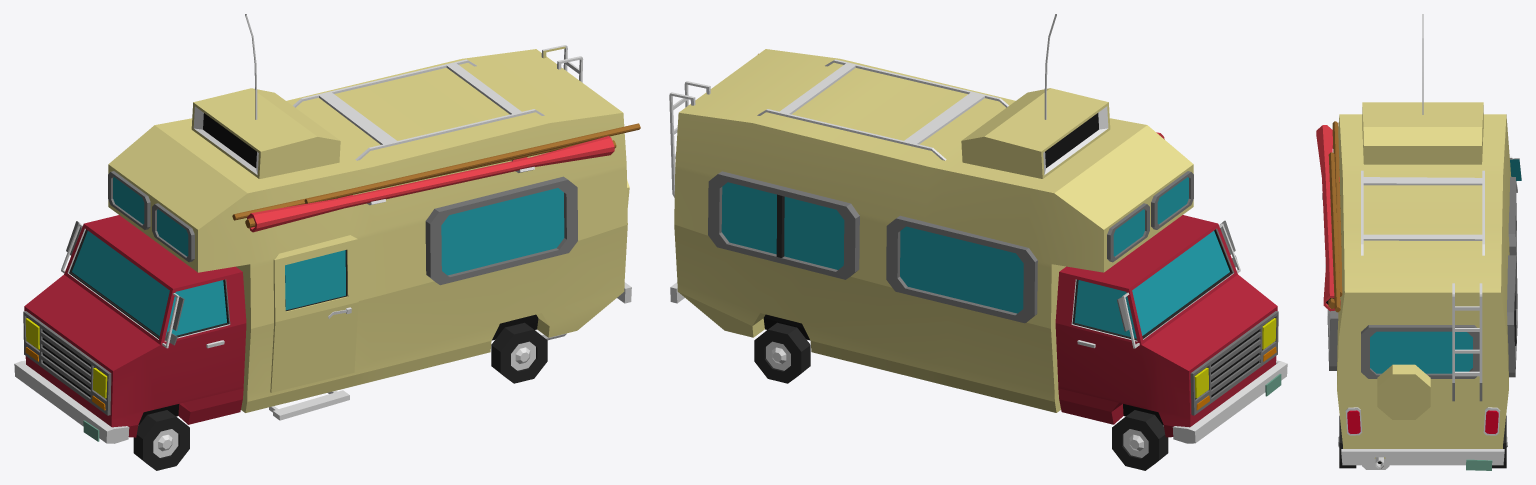
The model's file is Old-Caravan.fbx.
The picture shows the model from 3 angles, left to right: view 1: azimuth 30°, elevation 25°; view 2: azimuth 150°, elevation 25°; view 3: azimuth 270°, elevation 25°; orthographic projection. The views are drawn at different scales.
Parts seen in each view (by area): view 1: caravan, Cabin_Door, L-C-Windo, Fornt-Face, R-tire, F-tire, Front-Bumper, F-L-C-Windo, F-R-C-Windo; view 2: caravan, R-R-C-windo, F-R-C-Windo.001, Fornt-Face, R-tire.001, F-tire.001, Front-Bumper, F-L-C-Windo, F-R-C-Windo; view 3: caravan, F-L-C-Windo.001, R-tire.002, Back-Bumper, R-R-C-windo, back-Liight, F-R-C-Windo.001, L-C-Windo, Plate_R, Cube.002, Cube.003.
Boxes of the visible parts, x1,y1,x2,y2 form: caravan: (24,14,640,437); Cabin_Door: (270,235,358,392); L-C-Windo: (425,176,577,285); Fornt-Face: (23,311,111,415); R-tire: (491,322,547,383); F-tire: (133,410,189,470); Front-Bumper: (14,360,129,443); F-L-C-Windo: (152,203,194,262); F-R-C-Windo: (108,171,150,229); caravan: (669,14,1277,437); R-R-C-windo: (708,171,859,279); F-R-C-Windo.001: (886,215,1037,323); Fornt-Face: (1190,311,1278,415); R-tire.001: (754,322,810,383); F-tire.001: (1112,410,1168,470); Front-Bumper: (1172,360,1287,443); F-L-C-Windo: (1151,171,1193,229); F-R-C-Windo: (1107,203,1149,262); caravan: (1316,14,1511,458); F-L-C-Windo.001: (1361,325,1479,378); R-tire.002: (1377,364,1430,419); Back-Bumper: (1341,449,1504,465); R-R-C-windo: (1507,255,1517,377); back-Liight: (1345,407,1500,435); F-R-C-Windo.001: (1508,177,1516,262); L-C-Windo: (1327,309,1338,370); Plate_R: (1466,459,1492,470); Cube.002: (1509,156,1521,192); Cube.003: (1362,457,1389,469).
Size of the model in its own units: 1556 by 1059 by 565.
